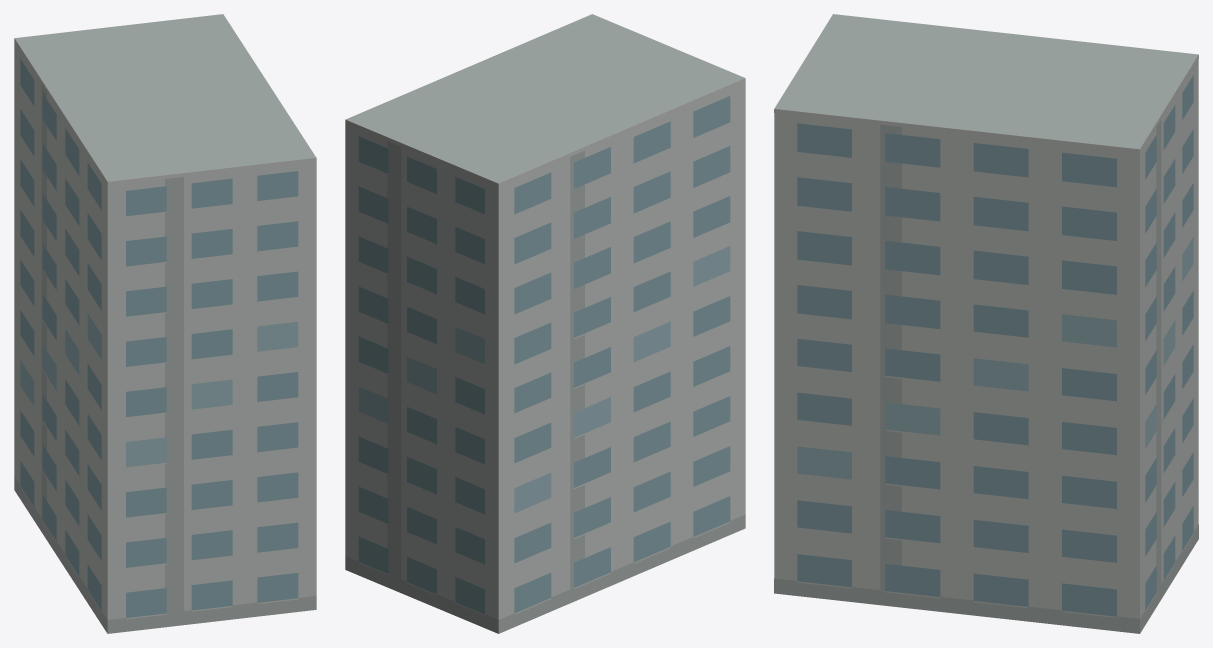
The model's file is residential-99f4442e-f3b0-4b6c-ad3c-65e9c1967fdc.glb.
The picture shows the model from 3 angles, left to right: view 1: azimuth 30°, elevation 25°; view 2: azimuth 150°, elevation 25°; view 3: azimuth 270°, elevation 25°; orthographic projection. The views are drawn at different scales.
Parts seen in each view (by area): view 1: residential-99f4442e-f3b0-4b6c-ad3c-65e9c1967fdc.tmp; view 2: residential-99f4442e-f3b0-4b6c-ad3c-65e9c1967fdc.tmp; view 3: residential-99f4442e-f3b0-4b6c-ad3c-65e9c1967fdc.tmp.
Boxes of the visible parts, <box> form: residential-99f4442e-f3b0-4b6c-ad3c-65e9c1967fdc.tmp: <box>14,14,316,633</box>; residential-99f4442e-f3b0-4b6c-ad3c-65e9c1967fdc.tmp: <box>345,14,745,633</box>; residential-99f4442e-f3b0-4b6c-ad3c-65e9c1967fdc.tmp: <box>774,14,1198,633</box>.
Size of the model in its own units: 17.38 by 29 by 23.04.
